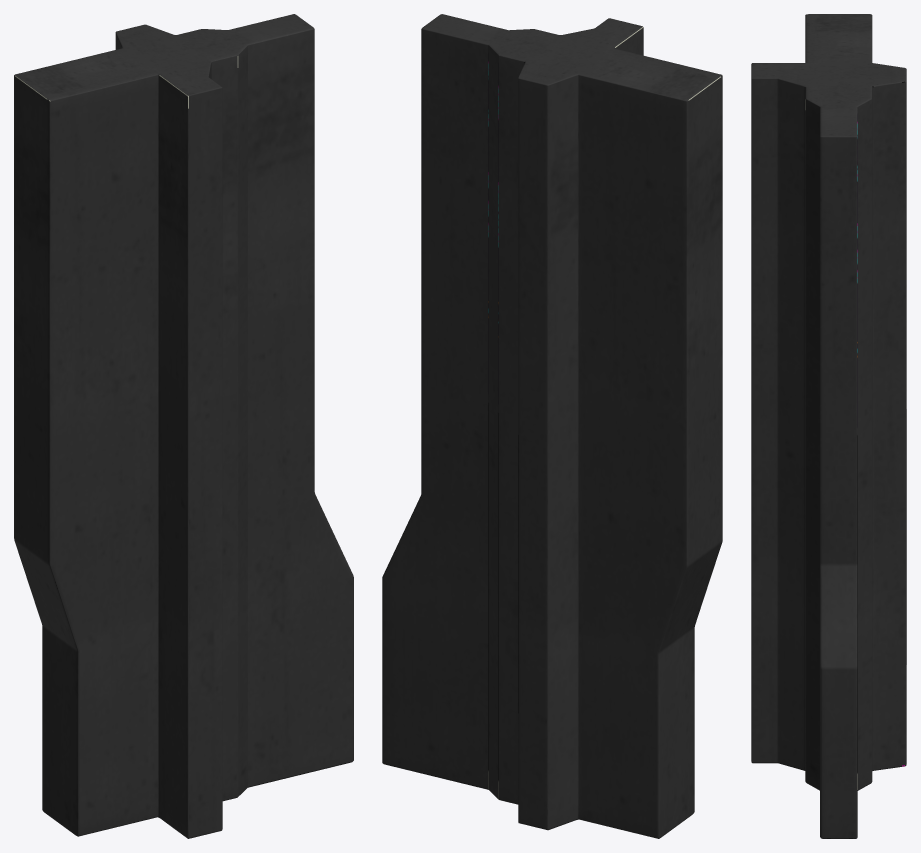
The model's file is Building2.fbx.
3 renders of one model, left to right at view 1: azimuth 30°, elevation 25°; view 2: azimuth 150°, elevation 25°; view 3: azimuth 270°, elevation 25°, orthographic. The views are drawn at different scales.
Visible parts, largest first — view 1: Cube.017; view 2: Cube.017; view 3: Cube.017.
Part boxes in pixels (box(x1,y1,x2,y2)): Cube.017: box(14, 14, 353, 838); Cube.017: box(382, 14, 722, 838); Cube.017: box(751, 14, 906, 838).
Bounding box in the file's own units: 23.46 × 53.26 × 10.92.
